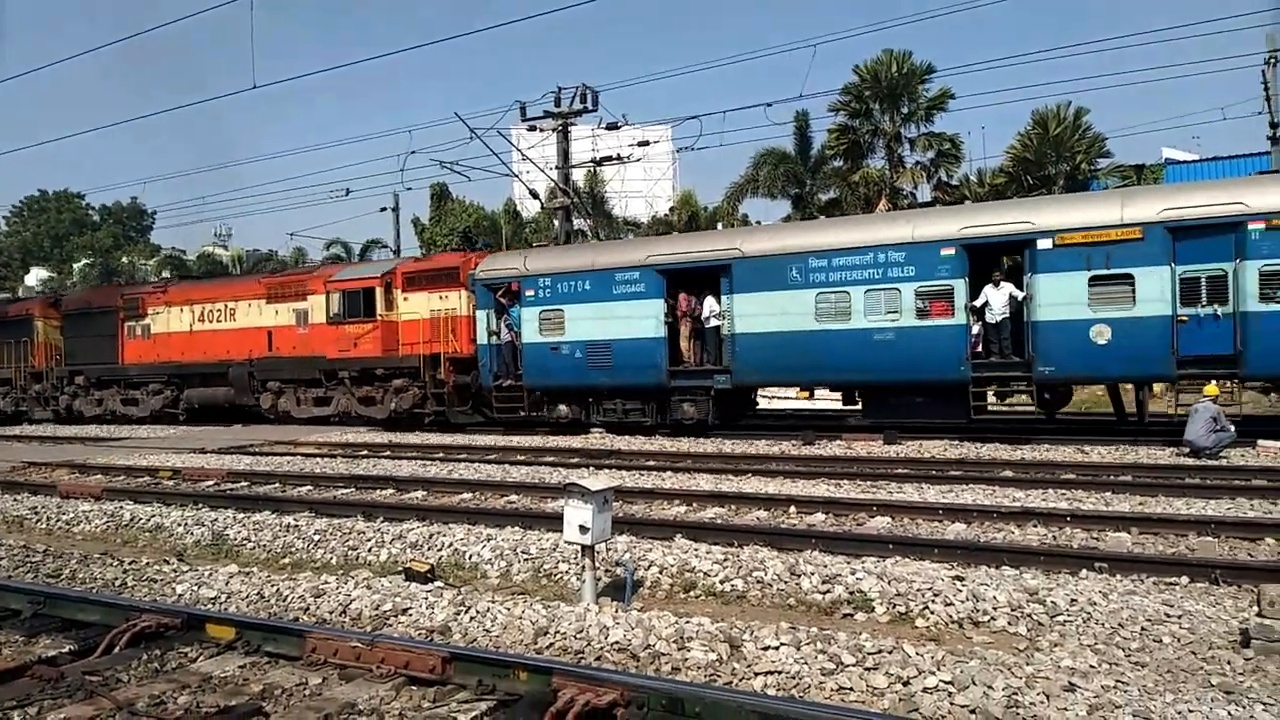Boogie: (551, 277, 597, 298)
Car Type: (796, 248, 928, 286), (607, 264, 651, 303)
Engine: (177, 297, 250, 336)
